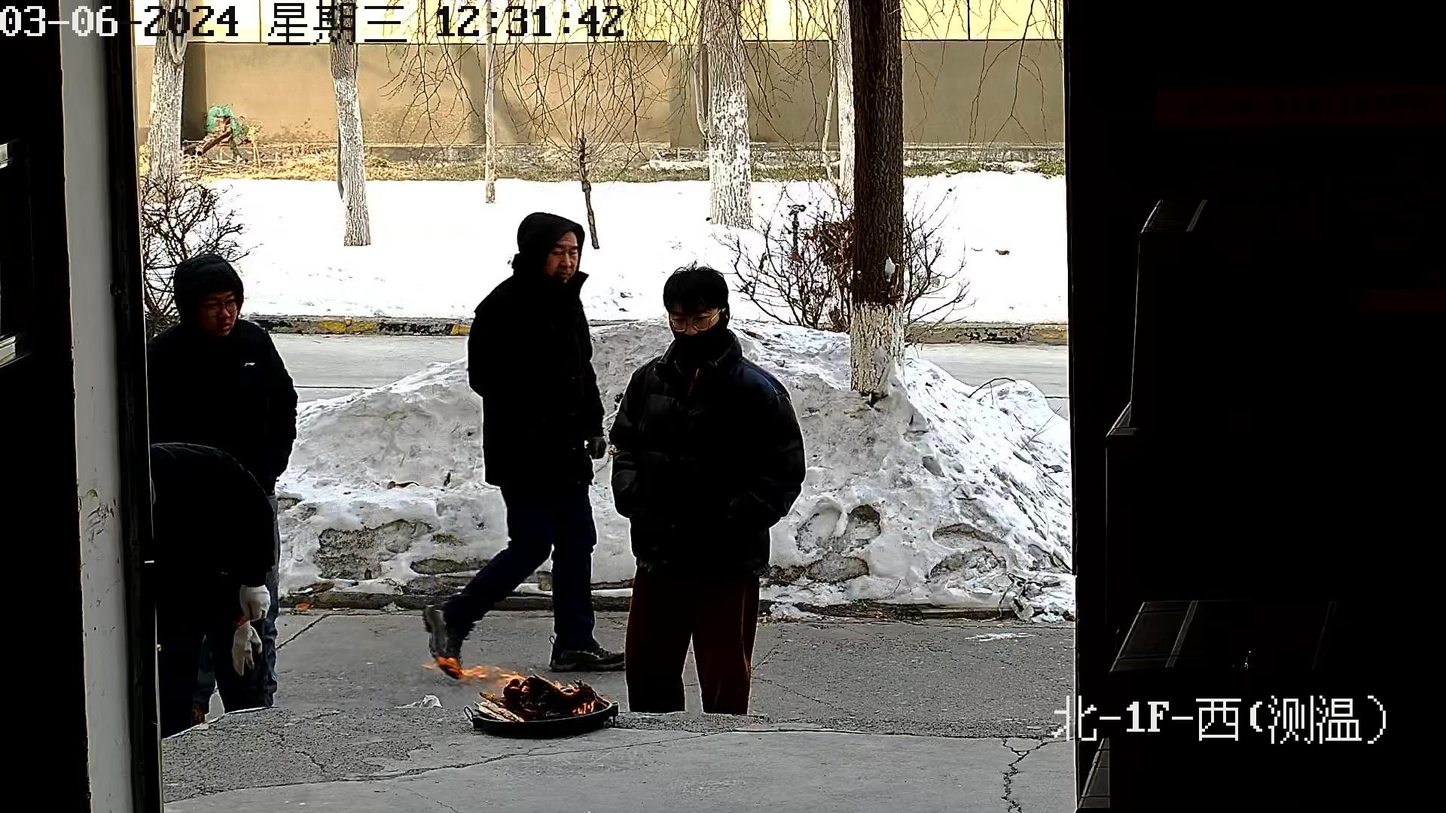fire: (436, 658, 526, 702), (538, 677, 596, 698)
